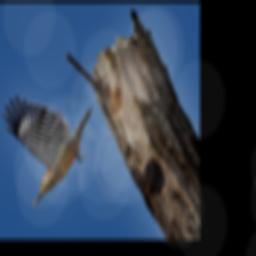Woodpecker: (1, 92, 93, 210)
